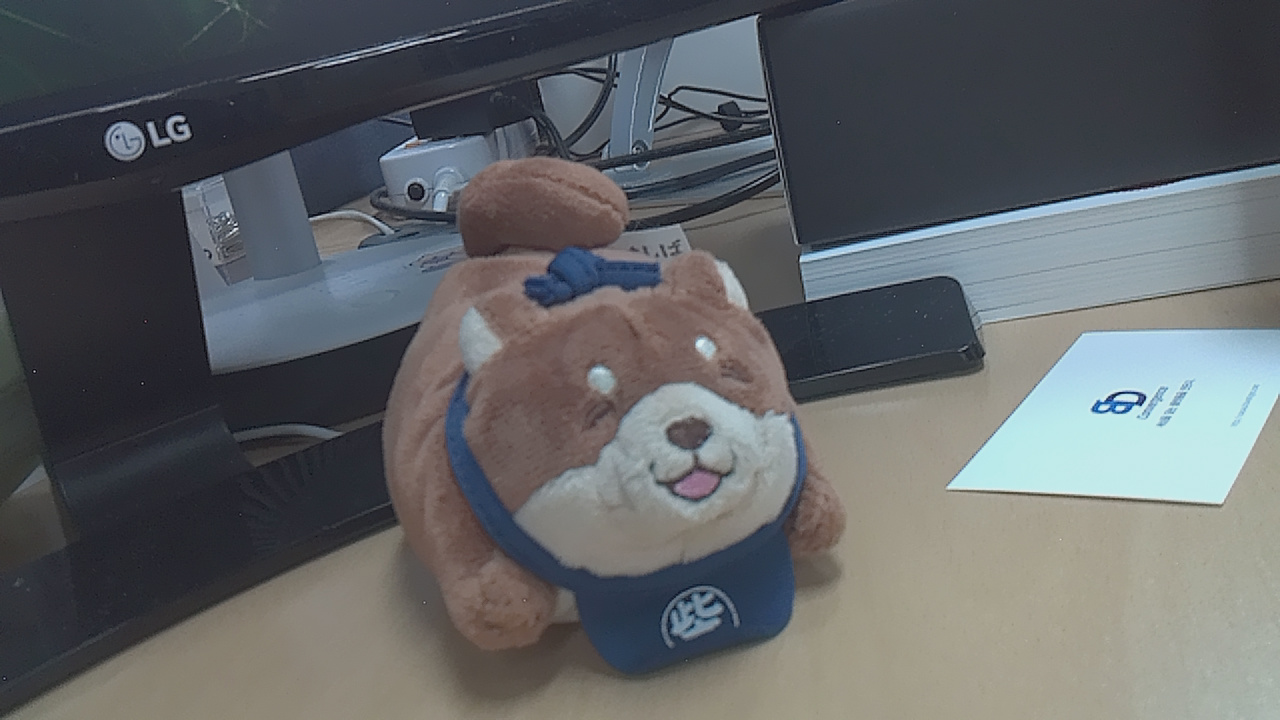BD: (1079, 371, 1207, 447)
cuteDog: (293, 183, 838, 686)
